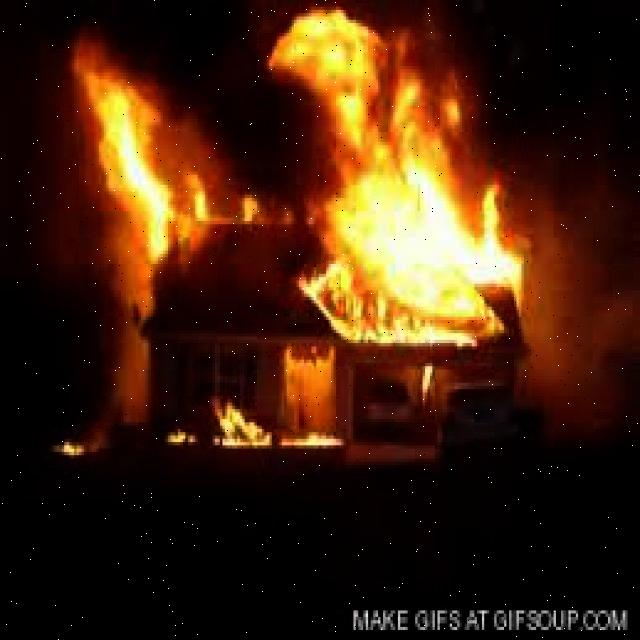fire: (310, 30, 523, 320), (96, 83, 200, 265)
